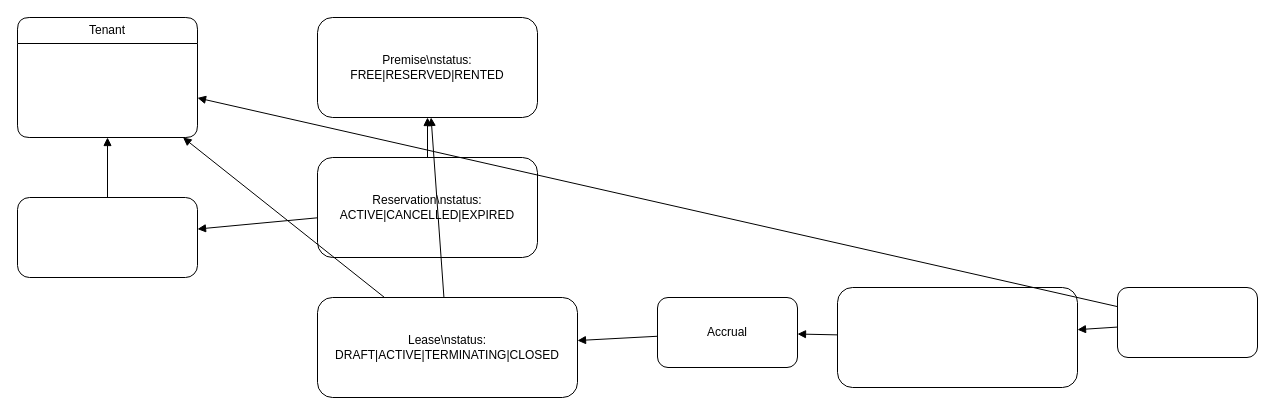
Image size: 1275x415. Some labels were removed from this diagram. The centre of each missing label's shape, as x and y in pixels:
"Invoice\nstatus: DRAFT|ISSUED|PAID|PARTIAL|OVERDUE" goes at point 957,337.
"Payment" goes at point 1187,322.
"User\nroles[], tenantId?" goes at point 107,237.
